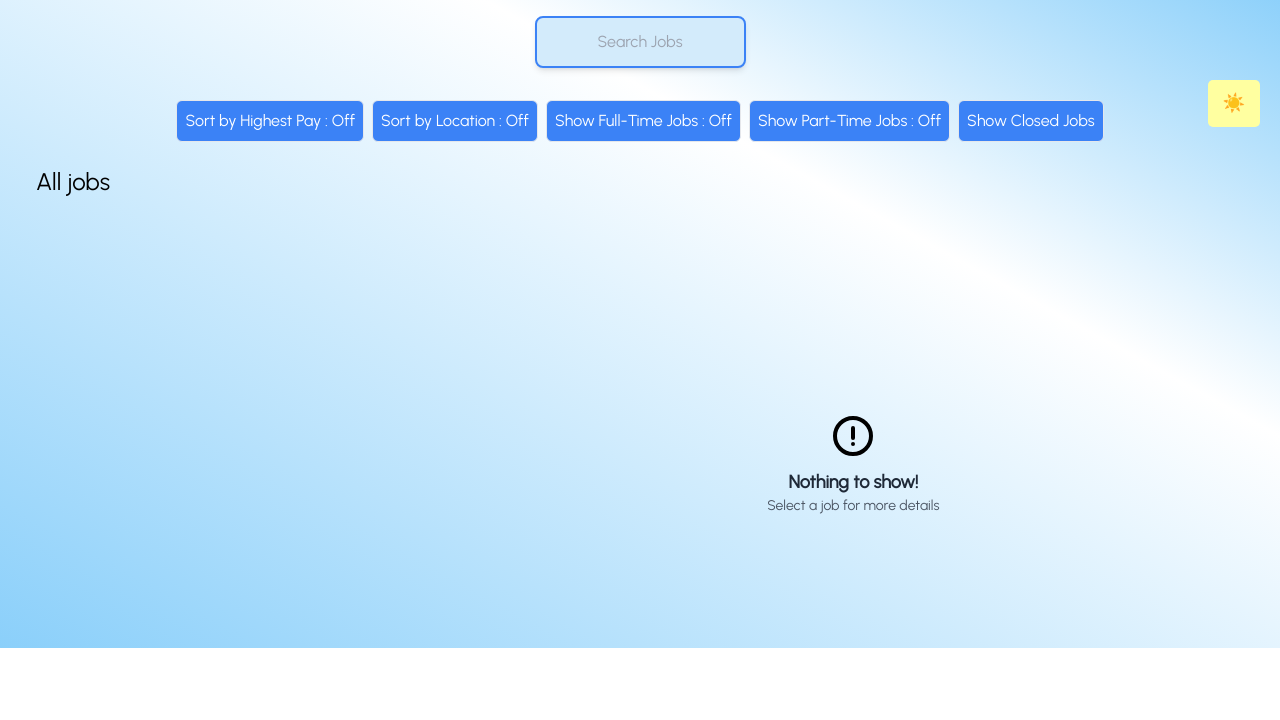
Test: Explore › toggles employment type buttons correctly when Show Full-Time is clicked
Expected: the button "Show Part-Time Jobs : Off" is shown, [749,100,950,142]
// Click the Show Full-Time button to turn it ON
Step 1. Click the button "Show Full-Time Jobs : Off" → [643, 121], box [546,100,741,142]
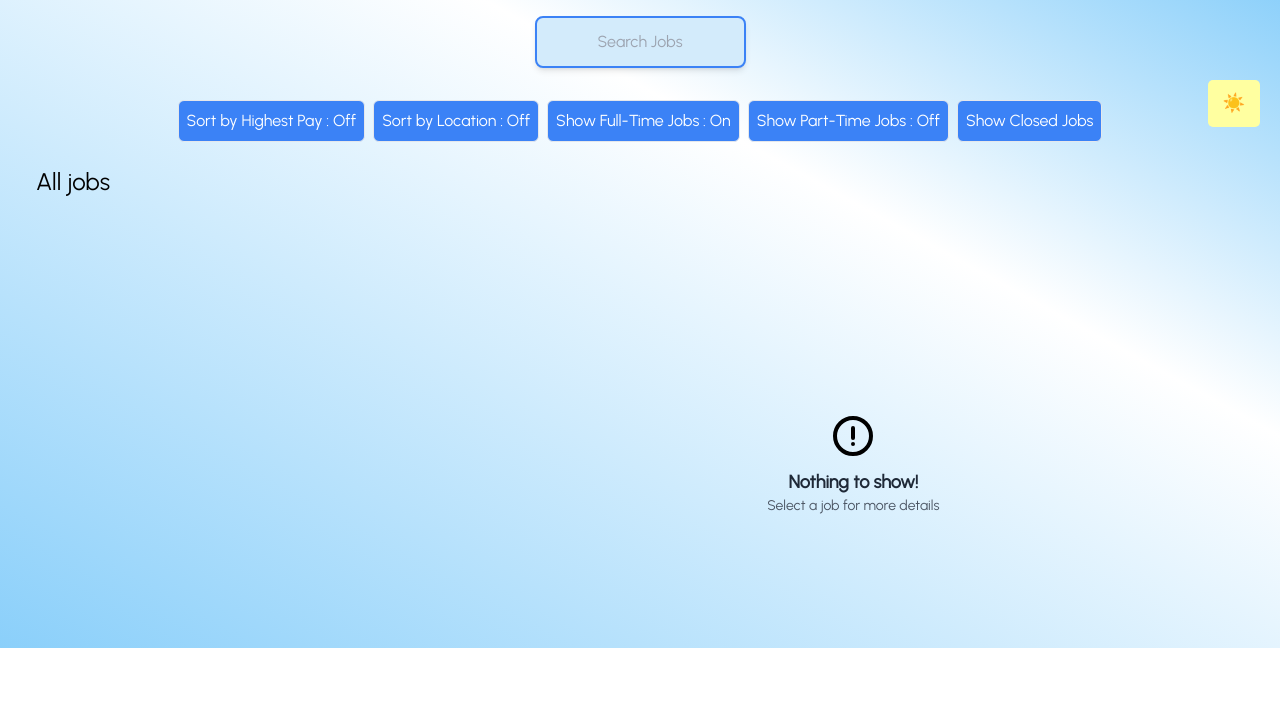
Result: the button "Show Full-Time Jobs : On" is shown at [547,100,740,142]
// Click the Show Part-Time button to turn it ON
Step 2. Click the button "Show Part-Time Jobs : Off" → [848, 121], box [748,100,949,142]
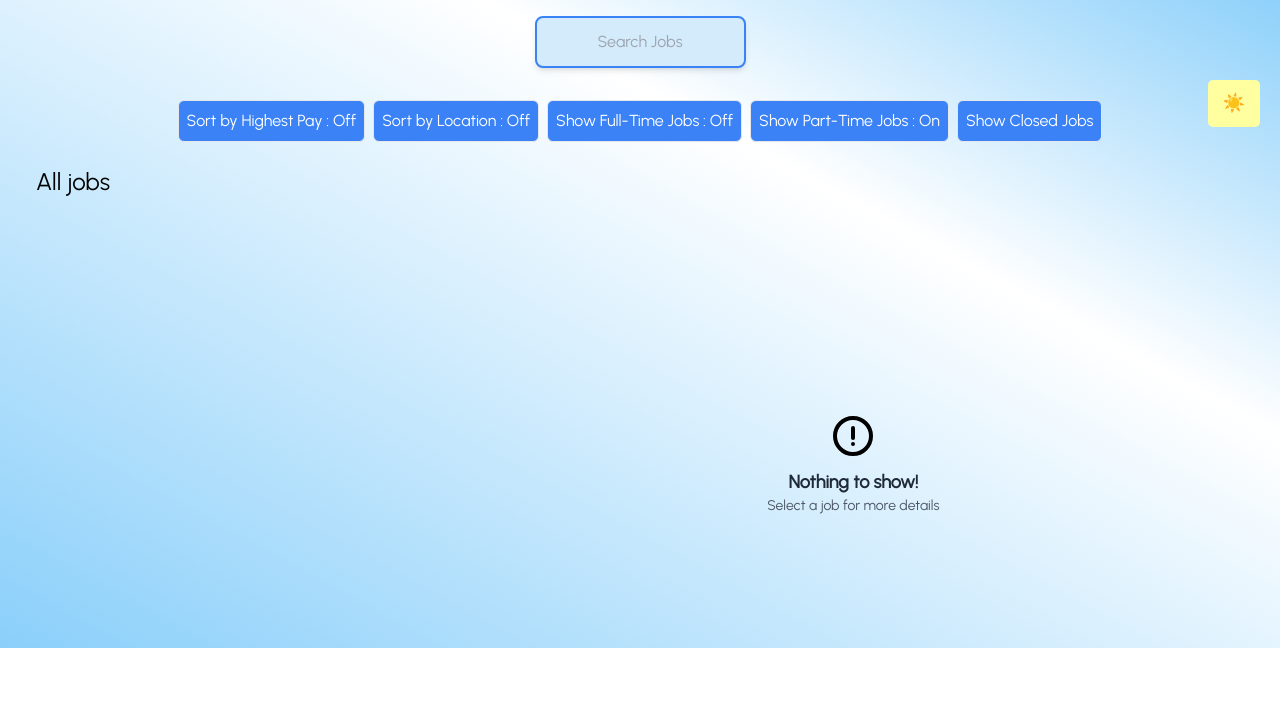
Result: the button "Show Part-Time Jobs : On" is shown at [750,100,949,142]
Result: the button "Show Full-Time Jobs : Off" is shown at [547,100,742,142]
